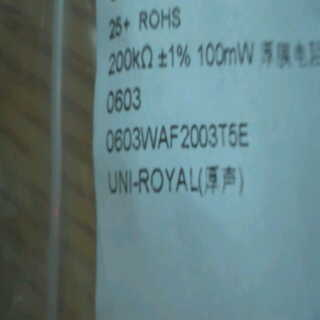200kR: (101, 41, 156, 78)
